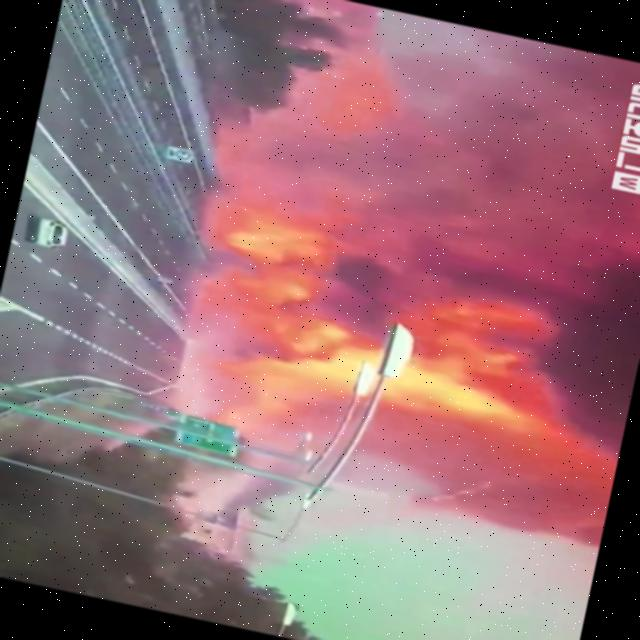explosion: (41, 0, 640, 638)
